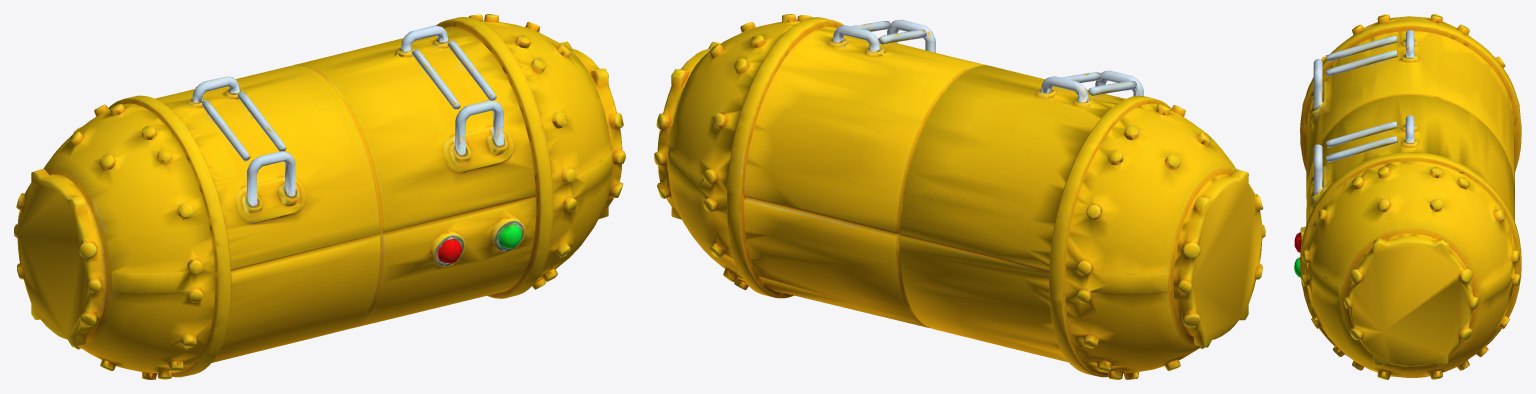
Rendered from chest.glb.
The picture shows the model from 3 angles, left to right: view 1: azimuth 30°, elevation 25°; view 2: azimuth 150°, elevation 25°; view 3: azimuth 270°, elevation 25°; orthographic projection. The views are drawn at different scales.
Parts seen in each view (by area): view 1: chest; view 2: chest; view 3: chest.
Part boxes in pixels (x1,y1,x2,y2): chest: (14, 14, 625, 379); chest: (654, 14, 1265, 379); chest: (1294, 14, 1521, 379).
Size of the model in its own units: 1 by 0.4832 by 0.4341.
Materials: 1 (1 with a texture image).
